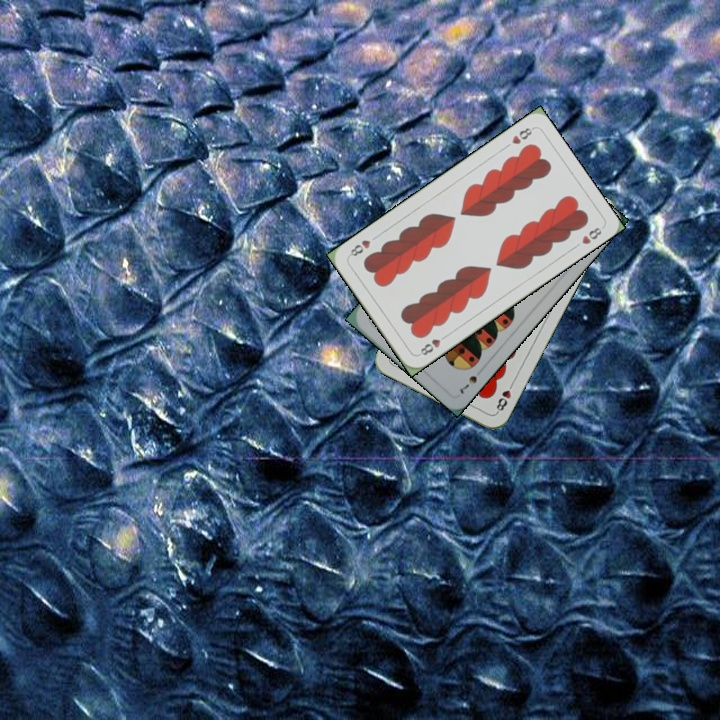H8: (414, 330, 450, 358), (492, 378, 516, 416), (508, 123, 536, 147)
S7: (456, 363, 486, 396)
